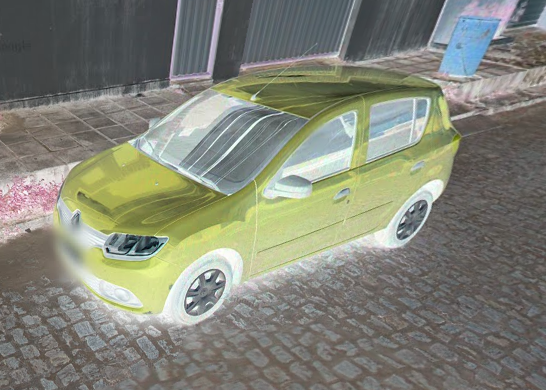car: (47, 39, 470, 327)
